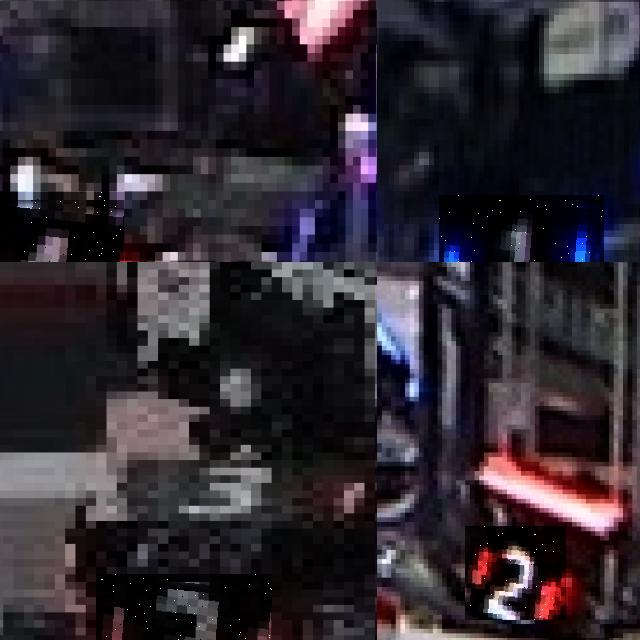B1: (439, 194, 604, 262)
R2: (466, 526, 568, 620)
R3: (106, 452, 364, 521), (96, 574, 271, 640)
R4: (0, 191, 124, 262)
